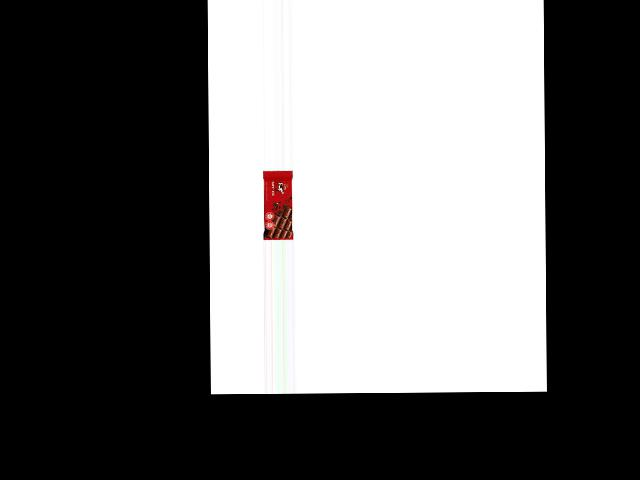chocolate: (262, 169, 292, 239)
